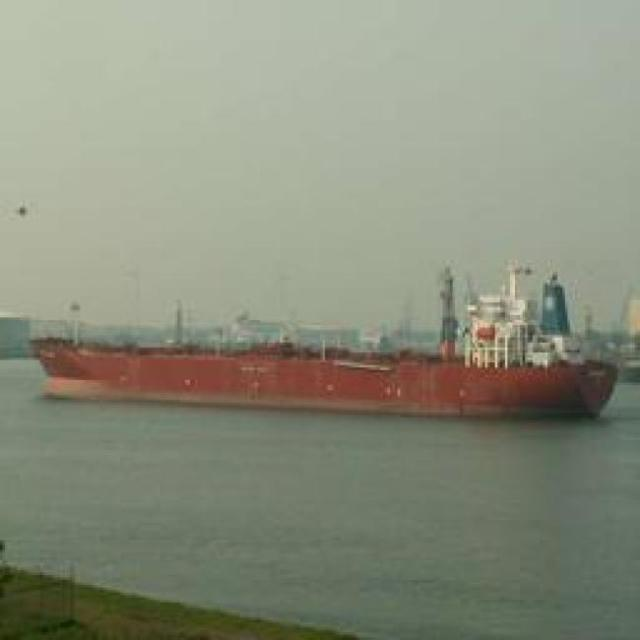boat: (18, 306, 626, 422)
